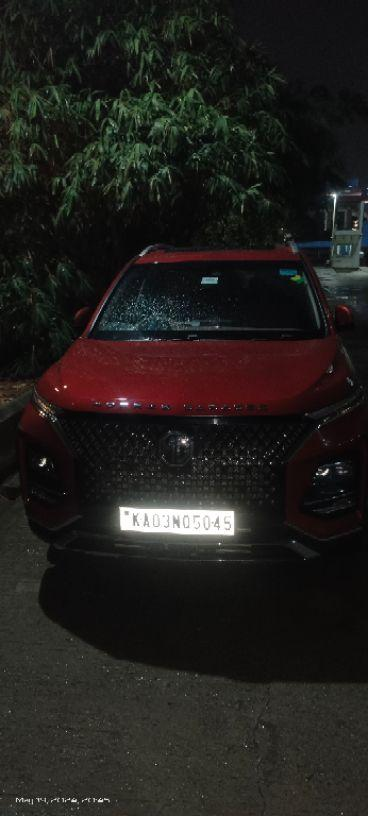license_plate: (116, 504, 236, 537)
